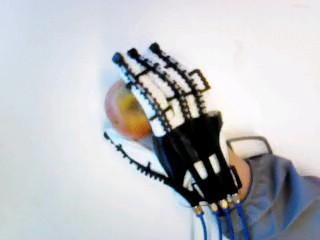apple: (105, 72, 153, 138)
hand: (101, 41, 240, 214)
